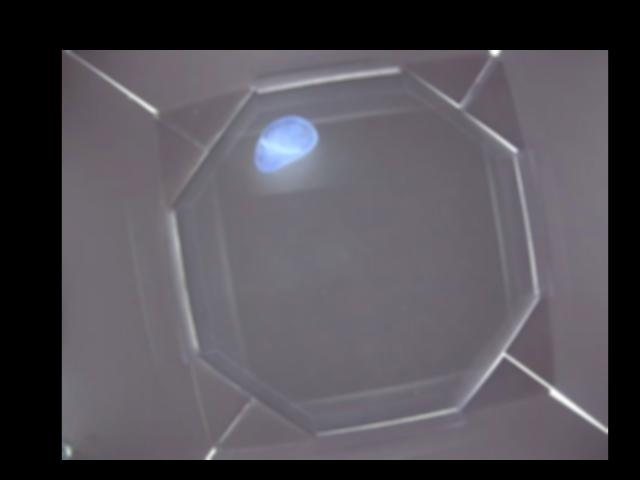Pebble: (247, 114, 321, 172)
